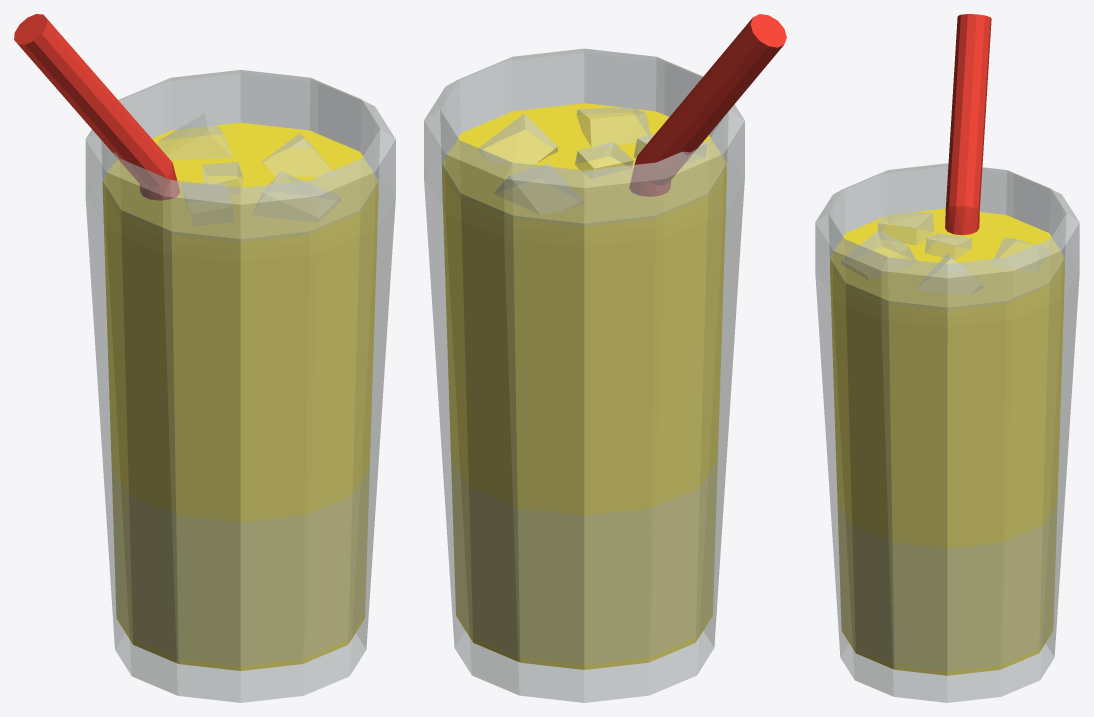
File: lemonade.glb
The picture shows the model from 3 angles, left to right: view 1: azimuth 30°, elevation 25°; view 2: azimuth 150°, elevation 25°; view 3: azimuth 270°, elevation 25°; orthographic projection. The views are drawn at different scales.
Parts seen in each view (by area): view 1: group267287153, group1707821788, group1845637014, group1047002413, group1992233717, group1826181495, group1681323602, group1394320938; view 2: group267287153, group1707821788, group1845637014, group1826181495, group1992233717, group1681323602, group1047002413; view 3: group267287153, group1707821788, group1845637014, group1394320938, group1826181495, group1681323602, group1047002413, group1992233717.
Part boxes in pixels (x1=…): group267287153: x1=85, y1=70, x2=395, y2=702; group1707821788: x1=102, y1=122, x2=378, y2=670; group1845637014: x1=14, y1=14, x2=179, y2=200; group1047002413: x1=158, y1=114, x2=232, y2=160; group1992233717: x1=262, y1=133, x2=332, y2=176; group1826181495: x1=253, y1=171, x2=340, y2=213; group1681323602: x1=202, y1=161, x2=242, y2=187; group1394320938: x1=182, y1=183, x2=233, y2=218; group267287153: x1=424, y1=48, x2=744, y2=702; group1707821788: x1=442, y1=103, x2=726, y2=669; group1845637014: x1=629, y1=14, x2=786, y2=196; group1826181495: x1=576, y1=107, x2=650, y2=146; group1992233717: x1=479, y1=114, x2=557, y2=163; group1681323602: x1=575, y1=142, x2=633, y2=170; group1047002413: x1=494, y1=163, x2=582, y2=202; group267287153: x1=815, y1=163, x2=1079, y2=702; group1707821788: x1=830, y1=208, x2=1064, y2=675; group1845637014: x1=945, y1=14, x2=991, y2=235; group1394320938: x1=877, y1=212, x2=933, y2=245; group1826181495: x1=841, y1=231, x2=916, y2=263; group1681323602: x1=925, y1=233, x2=972, y2=259; group1047002413: x1=992, y1=237, x2=1036, y2=264; group1992233717: x1=915, y1=254, x2=971, y2=289.
Bounding box in the file's own units: 0.6882 × 1.28 × 0.54.
